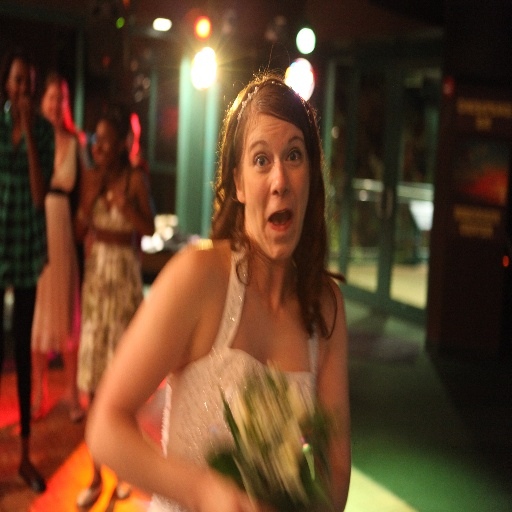hand: (194, 465, 253, 511), (85, 171, 99, 204), (18, 94, 29, 130), (117, 193, 133, 217)
